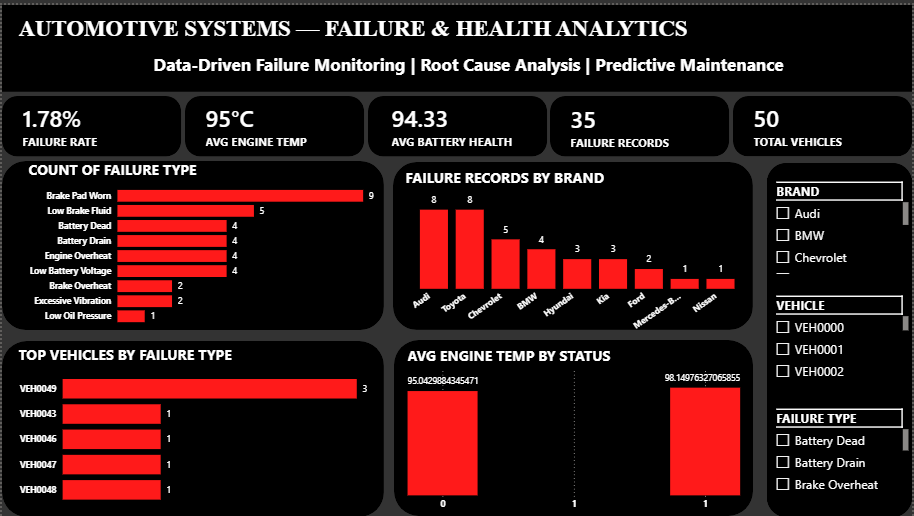

What the dashboard file says about the page in this screenshot:
{"tool":"powerbi","page":{"name":"FAILURE & HEALTH ANALYTICS","canvas":[1280,720],"ordinal":0},"visuals":[{"type":"shape","box":[0,0,1280,122.4],"z":0},{"type":"textbox","box":[18,10,1038.1,52],"z":1000},{"type":"textbox","box":[208,62,908.7,49.2],"z":2000},{"type":"shape","box":[0,128,252,85],"z":3000},{"type":"shape","box":[0,219.4,537.3,237.7],"z":4000},{"type":"shape","box":[1028,128,252,85],"z":5000},{"type":"shape","box":[257.1,128,252,85],"z":6000},{"type":"shape","box":[514.1,128,252,85],"z":7000},{"type":"shape","box":[771.2,128,252,85],"z":8000},{"type":"cardVisual","fields":{"Data":["Count(synthetic_telemetry_data.vehicle_id)"]},"box":[1028.2,121,231,98.5],"z":9000},{"type":"cardVisual","fields":{"Data":["Sum(synthetic_telemetry_data.failure_flag)"]},"box":[770.8,122.4,231,98.5],"z":10000},{"type":"cardVisual","fields":{"Data":["Avg(synthetic_telemetry_data.battery_health_percent)"]},"box":[519,121,231,98.5],"z":11000},{"type":"cardVisual","fields":{"Data":["Avg(synthetic_telemetry_data.engine_temp_c)"]},"box":[257.4,121,226,98.3],"z":12000},{"type":"cardVisual","fields":{"Data":["synthetic_telemetry_data.FAILURE_RATE1"]},"box":[0,121,231,98.5],"z":13000},{"type":"shape","box":[0,472.6,537.3,247.6],"z":14000},{"type":"clusteredBarChart","title":"COUNT OF FAILURE TYPE","fields":{"Category":["synthetic_telemetry_data.failure_type"],"Y":["CountNonNull(synthetic_telemetry_data.failure_type)"]},"box":[32.4,216.6,519,243.3],"z":15000},{"type":"shape","box":[550,220.8,506.4,236.3],"z":16000},{"type":"clusteredColumnChart","title":"FAILURE  RECORDS BY BRAND","fields":{"Y":["CountNonNull(synthetic_telemetry_data.failure_type)"],"Category":["synthetic_telemetry_data.brand"]},"box":[562.6,227.9,493.7,243.3],"z":17000},{"type":"shape","box":[551.4,471.2,505,247.6],"z":18000},{"type":"clusteredBarChart","title":"TOP VEHICLES BY  FAILURE TYPE","fields":{"Category":["synthetic_telemetry_data.vehicle_id"],"Y":["CountNonNull(synthetic_telemetry_data.failure_type)"]},"box":[18.3,476.8,500.7,239.1],"z":19000},{"type":"clusteredColumnChart","title":"AVG ENGINE TEMP BY STATUS","fields":{"Category":["synthetic_telemetry_data.failure_flag"],"Y":["Avg(synthetic_telemetry_data.engine_temp_c)"]},"box":[565.5,478.2,477.8,241.5],"z":20000},{"type":"shape","box":[1076,222.2,204,497.9],"z":21000},{"type":"slicer","title":"BRAND","fields":{"Values":["synthetic_telemetry_data.brand"]},"box":[1076,244,204,140],"z":22000},{"type":"slicer","title":"BRAND","fields":{"Values":["synthetic_telemetry_data.vehicle_id"]},"box":[1076,404,204,136],"z":23000},{"type":"slicer","title":"BRAND","fields":{"Values":["synthetic_telemetry_data.failure_type"]},"box":[1076,562,204,136],"z":24000}]}

Visuals, with their boxes in screenshot pixels (x1, y1, x2, y2), scaled from the page's 1280x720 canvas onto the 914x516 screenshot:
shape: bbox(0, 0, 913, 88)
textbox: bbox(13, 7, 754, 44)
textbox: bbox(149, 44, 797, 80)
shape: bbox(0, 92, 180, 153)
shape: bbox(0, 157, 384, 328)
shape: bbox(734, 92, 913, 153)
shape: bbox(184, 92, 364, 153)
shape: bbox(367, 92, 547, 153)
shape: bbox(551, 92, 731, 153)
cardVisual - Count(synthetic_telemetry_data.vehicle_id): bbox(734, 87, 899, 157)
cardVisual - Sum(synthetic_telemetry_data.failure_flag): bbox(550, 88, 715, 158)
cardVisual - Avg(synthetic_telemetry_data.battery_health_percent): bbox(371, 87, 536, 157)
cardVisual - Avg(synthetic_telemetry_data.engine_temp_c): bbox(184, 87, 345, 157)
cardVisual - synthetic_telemetry_data.FAILURE_RATE1: bbox(0, 87, 165, 157)
shape: bbox(0, 339, 384, 515)
"COUNT OF FAILURE TYPE" clusteredBarChart: bbox(23, 155, 394, 330)
shape: bbox(393, 158, 754, 328)
"FAILURE  RECORDS BY BRAND" clusteredColumnChart: bbox(402, 163, 754, 338)
shape: bbox(394, 338, 754, 515)
"TOP VEHICLES BY  FAILURE TYPE" clusteredBarChart: bbox(13, 342, 371, 513)
"AVG ENGINE TEMP BY STATUS" clusteredColumnChart: bbox(404, 343, 745, 515)
shape: bbox(768, 159, 913, 515)
"BRAND" slicer: bbox(768, 175, 913, 275)
"BRAND" slicer: bbox(768, 290, 913, 387)
"BRAND" slicer: bbox(768, 403, 913, 500)
